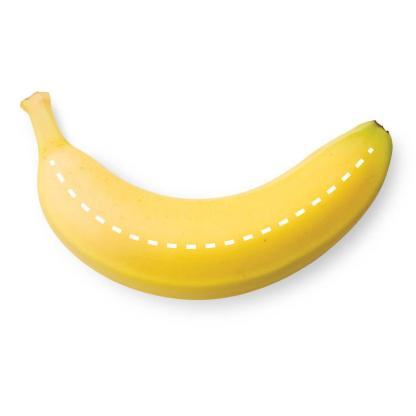banana: (27, 107, 400, 304)
